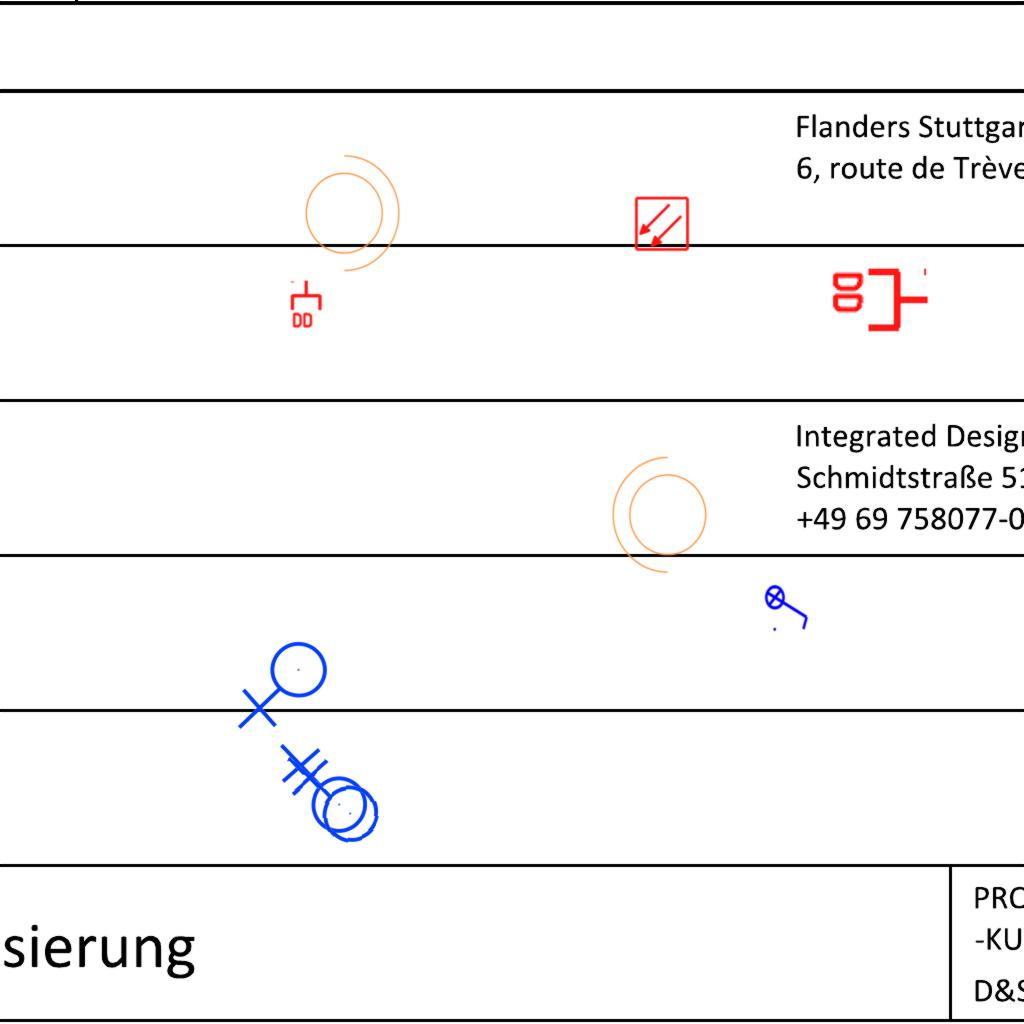Ausschalter_beleuchtet: (764, 578, 812, 634)
Datenanschluss_zweifach: (828, 267, 931, 336), (290, 279, 324, 330)
Elektroanschluss_allgemein_230V_Geraeteanschlussdose_230V: (282, 750, 383, 856), (237, 640, 336, 734), (275, 743, 369, 842)
RMO_Rauchmelder_optischer: (634, 196, 690, 252)
Scheinwerfer_fuer_Alarmbeleuchtung: (607, 452, 719, 584), (293, 144, 405, 276)
